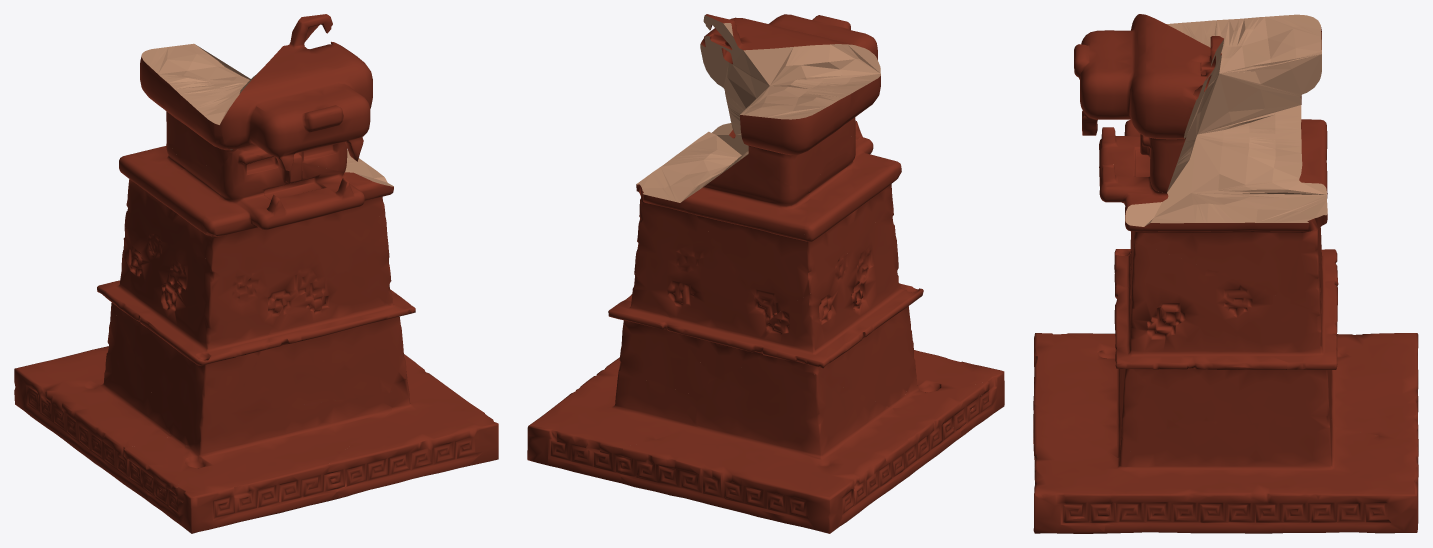
File: knight.glb
The picture shows the model from 3 angles, left to right: view 1: azimuth 30°, elevation 25°; view 2: azimuth 150°, elevation 25°; view 3: azimuth 270°, elevation 25°; orthographic projection. The views are drawn at different scales.
Parts seen in each view (by area): view 1: chunk_10, chunk_05, chunk_08, chunk_01, chunk_04, chunk_11, chunk_00, chunk_06, chunk_02, chunk_12, chunk_07, chunk_09; view 2: chunk_11, chunk_10, chunk_03, chunk_09, chunk_07, chunk_04, chunk_06, chunk_02, chunk_12, chunk_08, chunk_05; view 3: chunk_07, chunk_12, chunk_04, chunk_03, chunk_06, chunk_09, chunk_11, chunk_00, chunk_08, chunk_05, chunk_01, chunk_10.
Boxes of the visible parts, box(x1,y1,x2,y2) form: chunk_10: box(97, 227, 284, 492); chunk_05: box(203, 149, 393, 305); chunk_08: box(147, 394, 391, 533); chunk_01: box(228, 269, 412, 412); chunk_04: box(219, 14, 372, 171); chunk_11: box(14, 304, 170, 500); chunk_00: box(327, 378, 498, 497); chunk_06: box(140, 43, 250, 169); chunk_02: box(119, 155, 220, 256); chunk_12: box(344, 209, 415, 312); chunk_07: box(404, 354, 462, 402); chunk_09: box(127, 139, 184, 169); chunk_11: box(621, 360, 961, 533); chunk_10: box(758, 210, 989, 430); chunk_03: box(634, 131, 769, 378); chunk_09: box(680, 151, 809, 317); chunk_07: box(527, 357, 696, 483); chunk_04: box(700, 14, 880, 134); chunk_06: box(740, 73, 880, 188); chunk_02: box(804, 140, 896, 293); chunk_12: box(608, 271, 712, 395); chunk_08: box(905, 350, 1004, 436); chunk_05: box(712, 120, 901, 211); chunk_07: box(1104, 392, 1418, 533); chunk_12: box(1115, 242, 1337, 427); chunk_04: box(1074, 14, 1223, 192); chunk_03: box(1139, 193, 1337, 336); chunk_06: box(1166, 14, 1321, 134); chunk_09: box(1191, 105, 1327, 249); chunk_11: box(1329, 333, 1418, 454); chunk_00: box(1033, 404, 1129, 533); chunk_08: box(1033, 333, 1121, 457); chunk_05: box(1099, 119, 1196, 274); chunk_01: box(1114, 269, 1180, 451); chunk_10: box(1068, 228, 1338, 346).
Size of the model in its own units: 0.7628 by 0.9689 by 0.7631.
